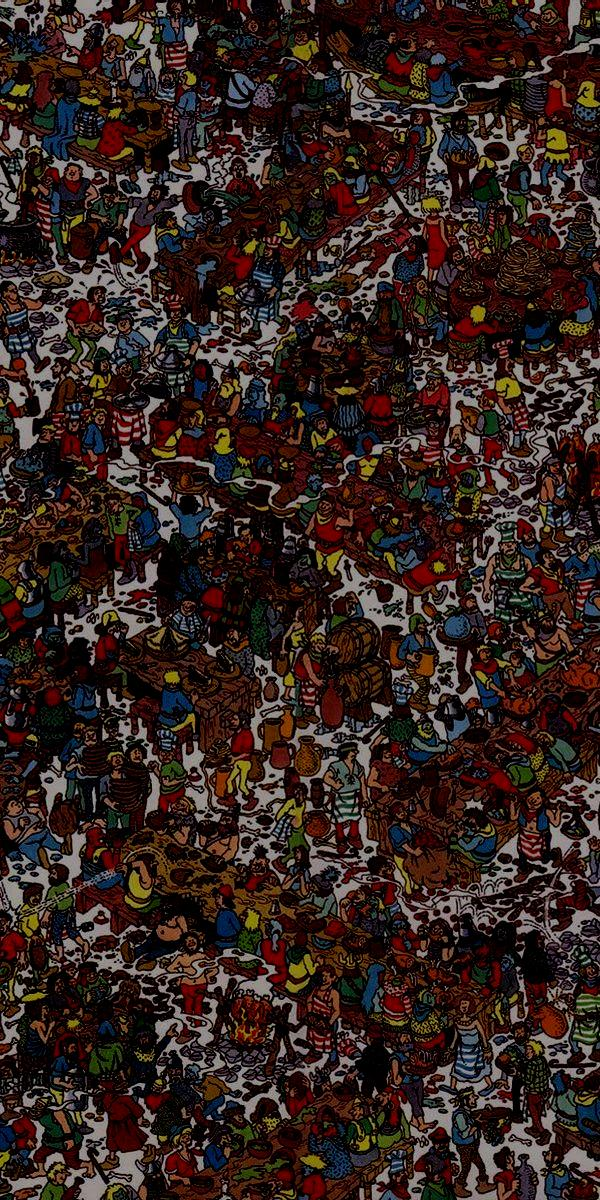waldos: (424, 411, 445, 440)
